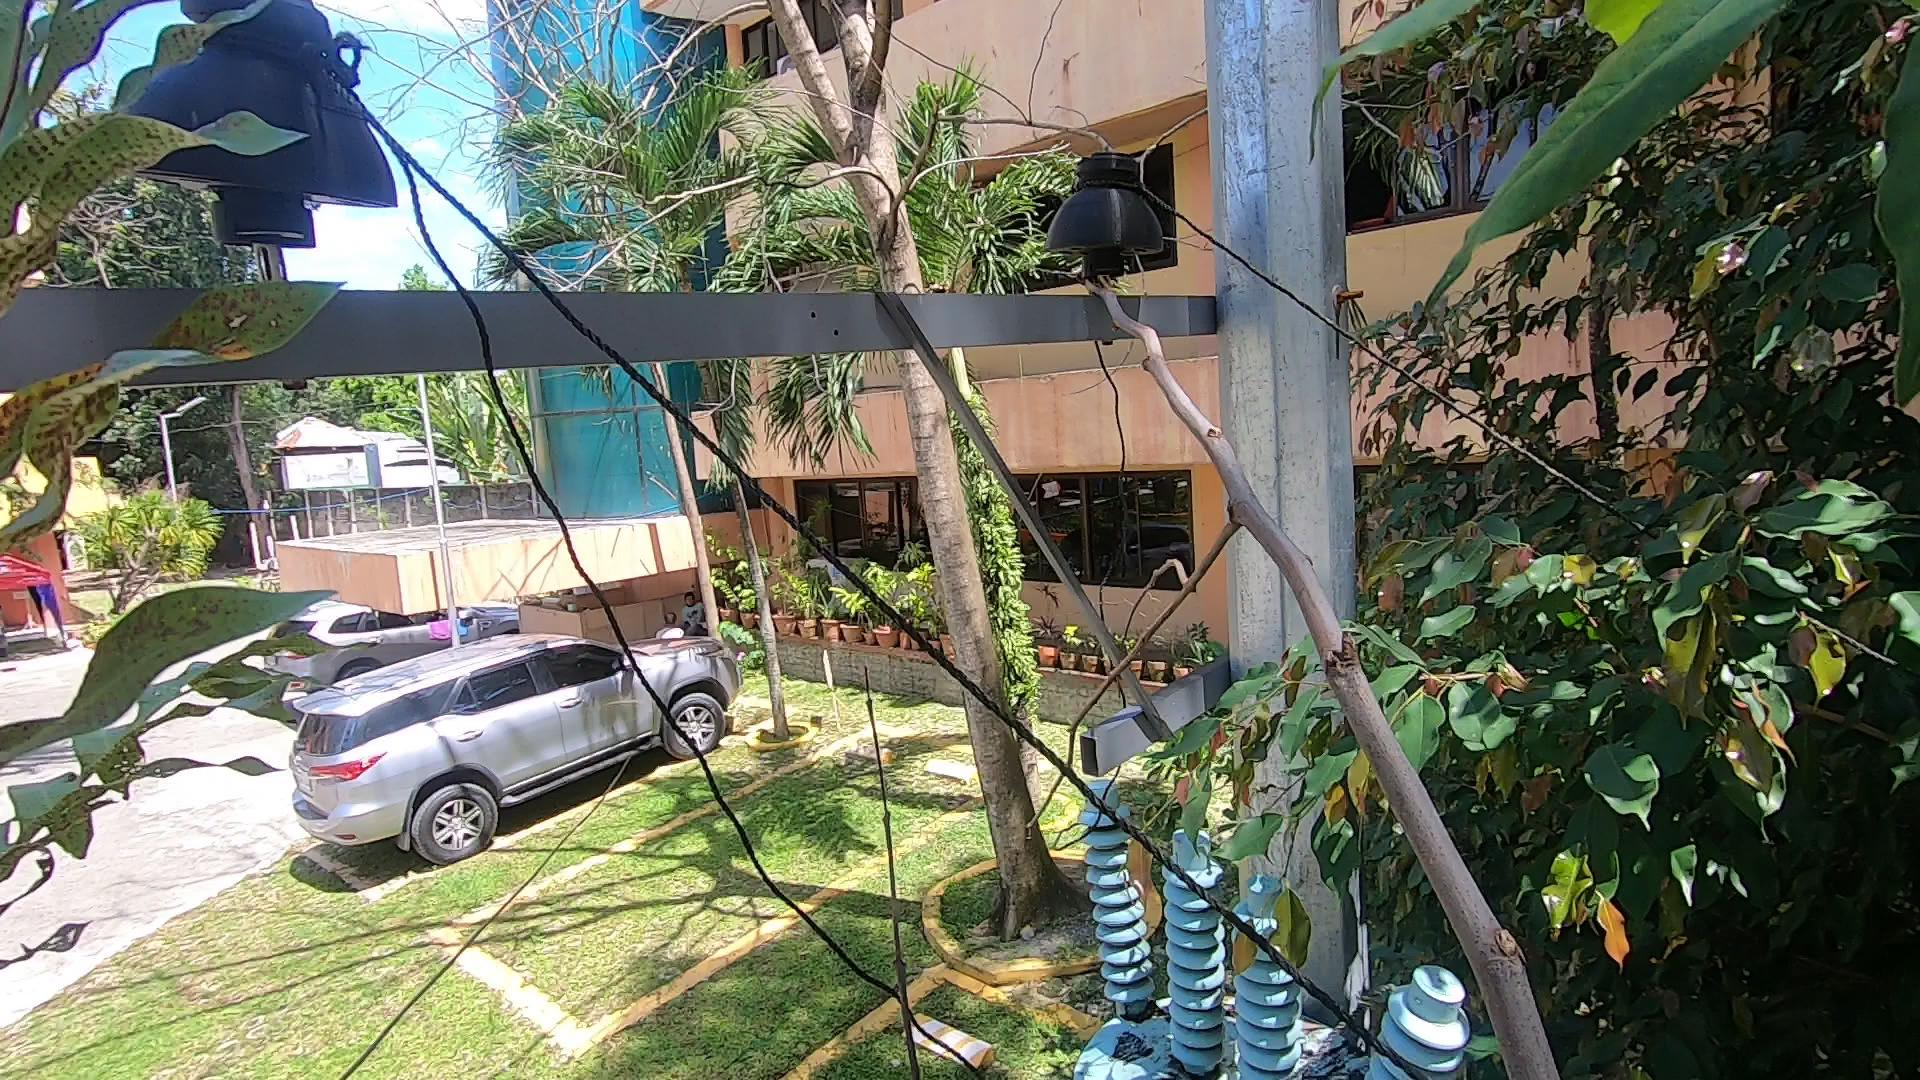branch with leaves: (1145, 653, 1422, 1011)
leaf: (1, 1, 378, 804), (1291, 1034, 1367, 1080), (1143, 1058, 1228, 1080), (1126, 990, 1160, 1033)
tree branch: (1039, 257, 1601, 1080)
